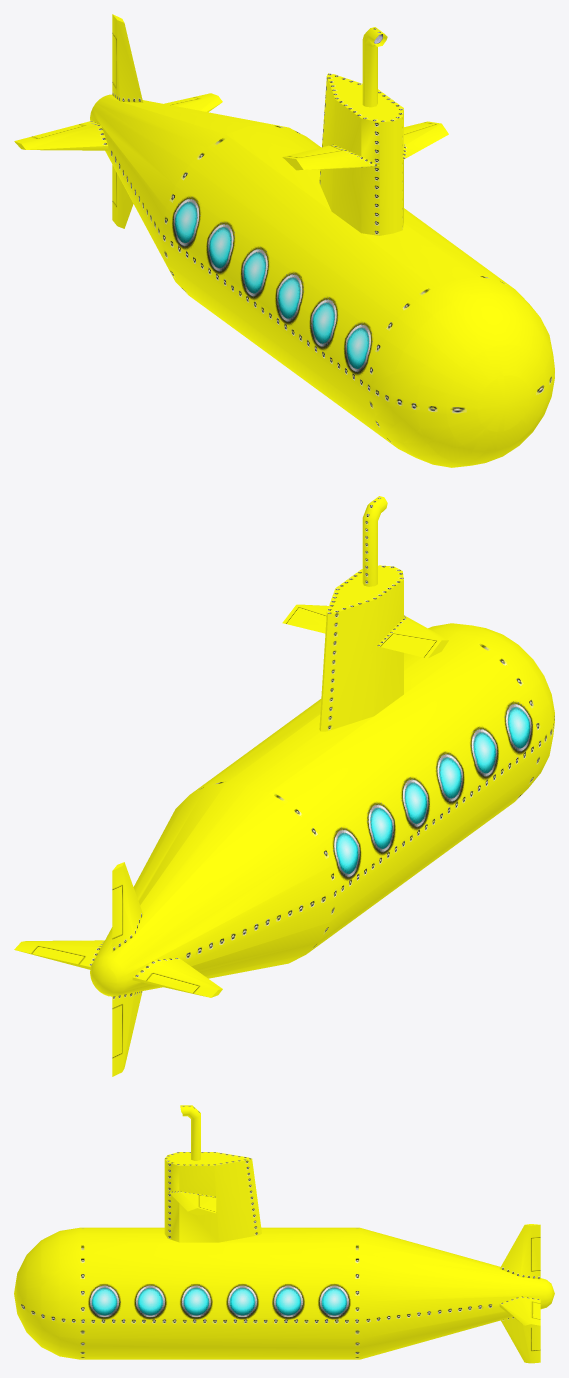
Rendered from Ren_YellowSubmarine_8ce667069cac.glb.
3 renders of one model, top to bottom at view 1: azimuth 30°, elevation 25°; view 2: azimuth 150°, elevation 25°; view 3: azimuth 270°, elevation 25°, orthographic. The views are drawn at different scales.
Visible parts, largest first — view 1: BODY; view 2: BODY; view 3: BODY.
Part boxes in pixels (left/top/right/bottom): BODY: left=14, top=14, right=554, bottom=467; BODY: left=14, top=496, right=554, bottom=1076; BODY: left=14, top=1105, right=554, bottom=1363.
Size of the model in its own units: 3.45 by 6.41 by 12.27.
Materials: 1 (1 with a texture image).
